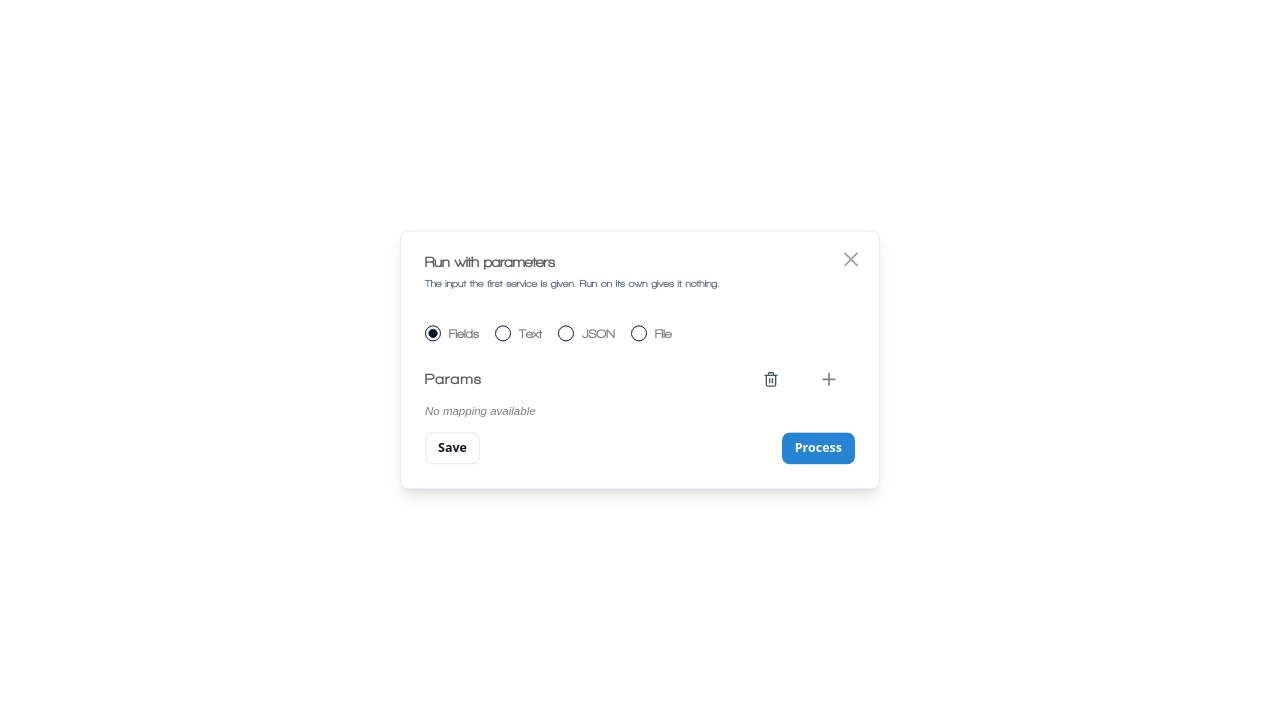
Test: RunParamsDialog › saved payloads › forgets the last one, and the menu with it
Click the button "Save" at (452, 449), box [425,433,480,465]
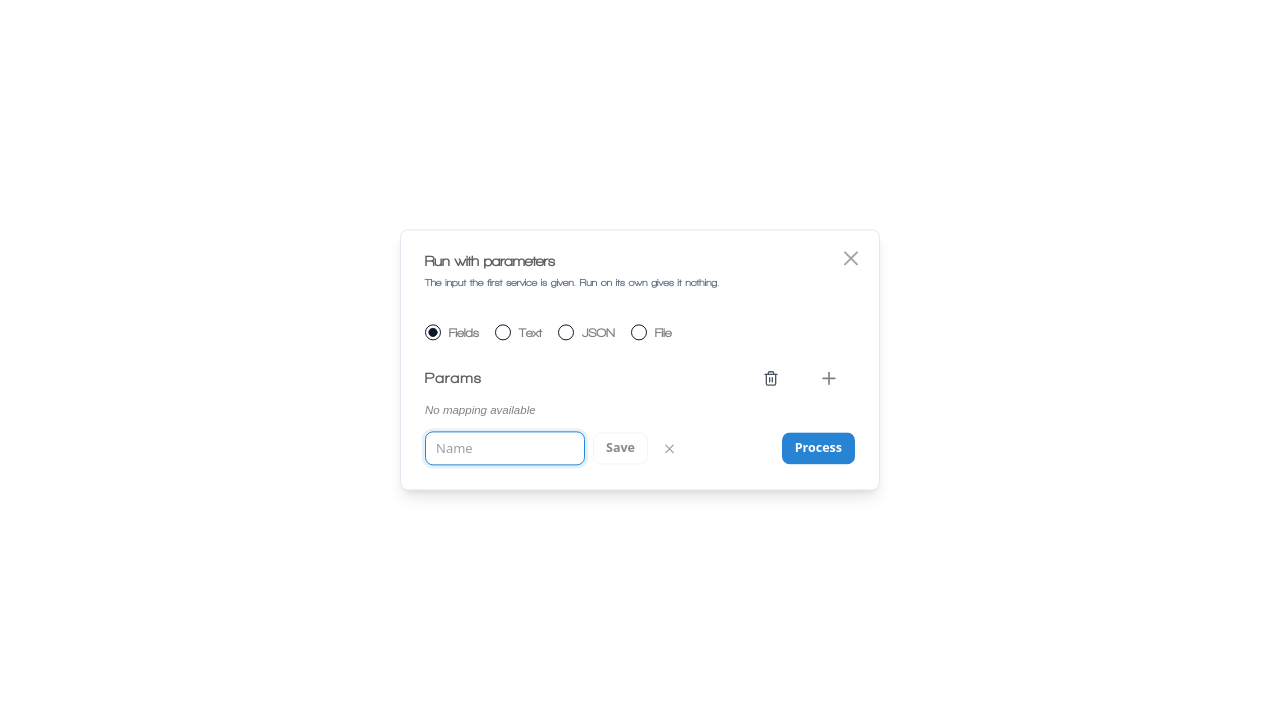
Type "empty" into the field named "Payload name" at (505, 449), box [425,432,585,466]
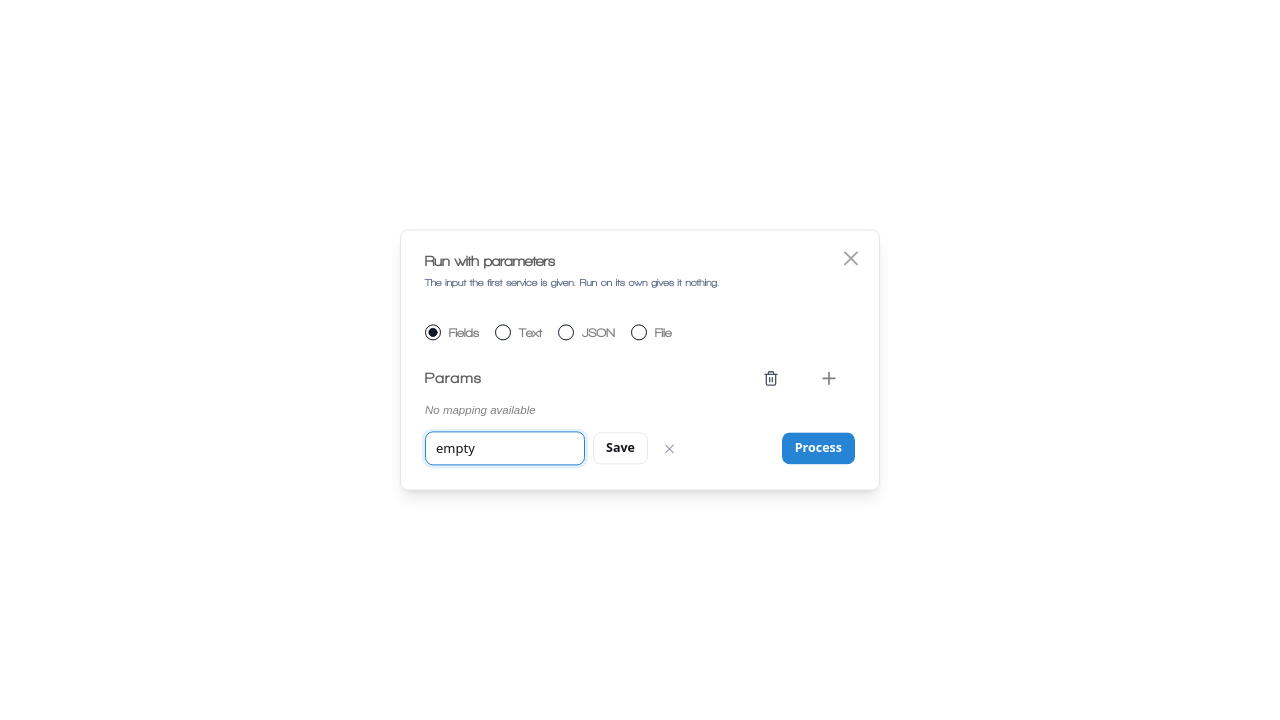
Click the button "Save" at (620, 449), box [593,433,648,465]
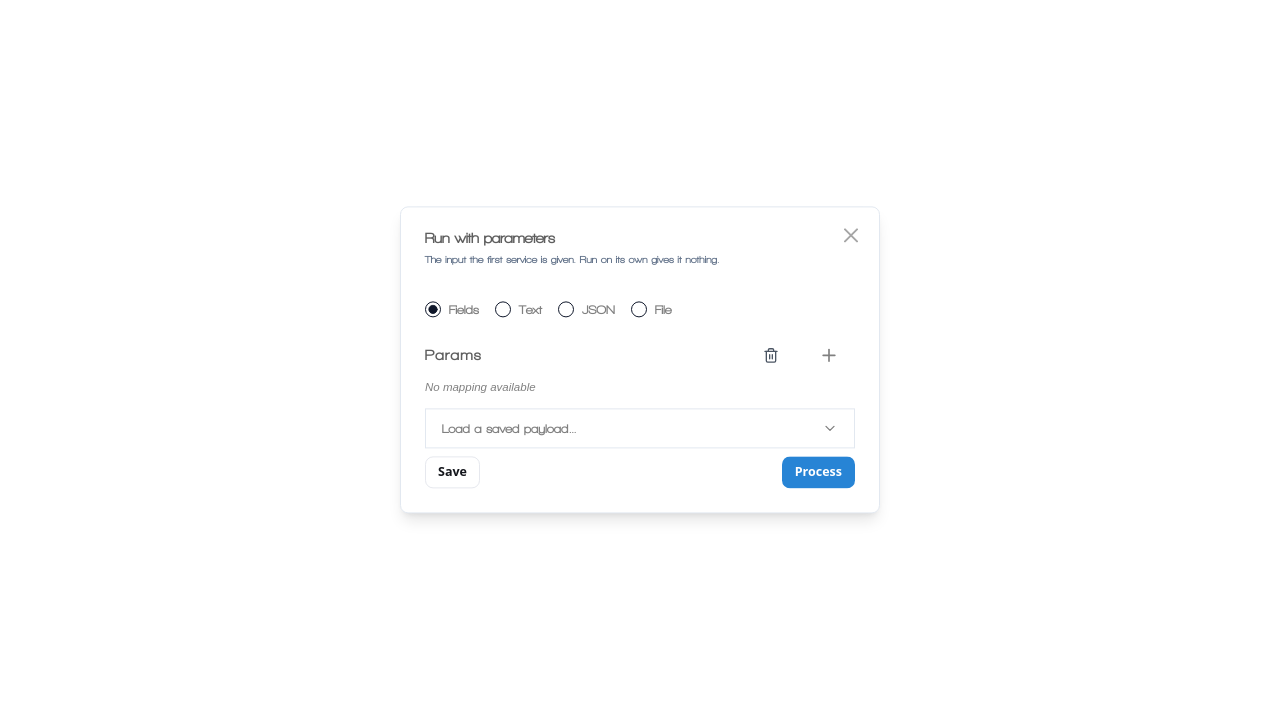
Press Enter in the button "Load a saved payload…", box [425,409,855,449]
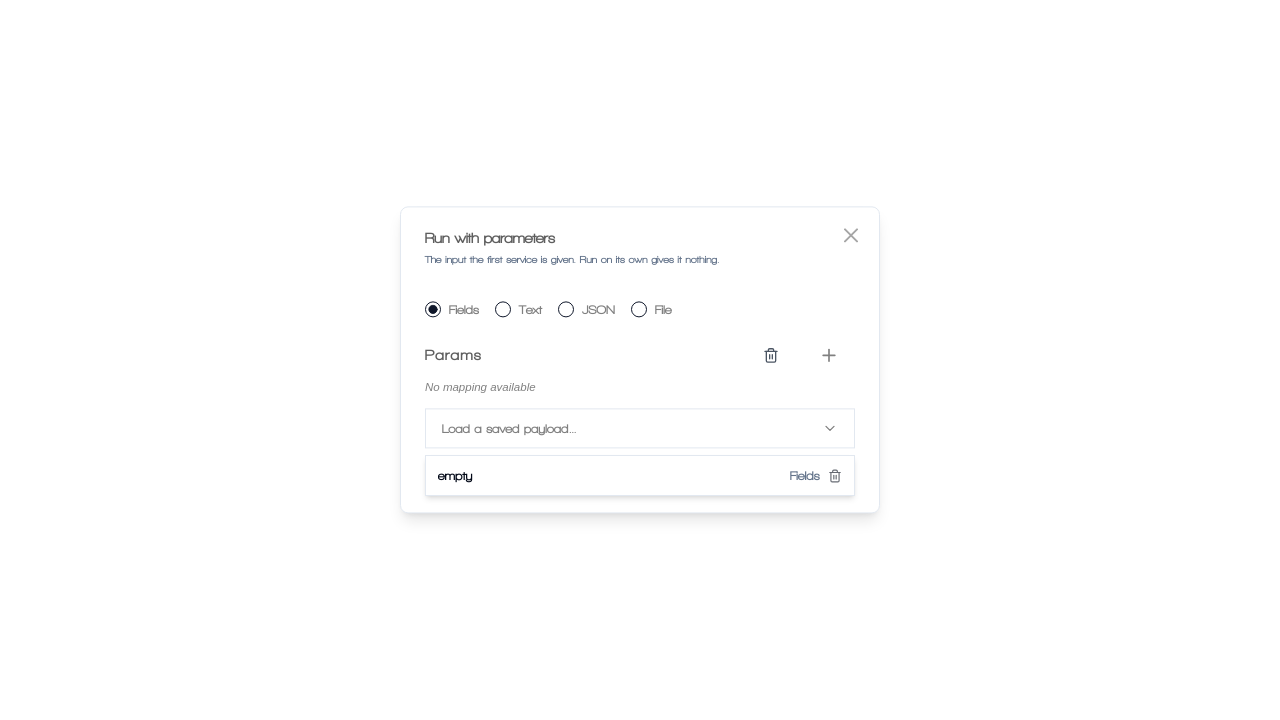
Click the button named "Forget empty" at (835, 476), box [828,469,842,483]
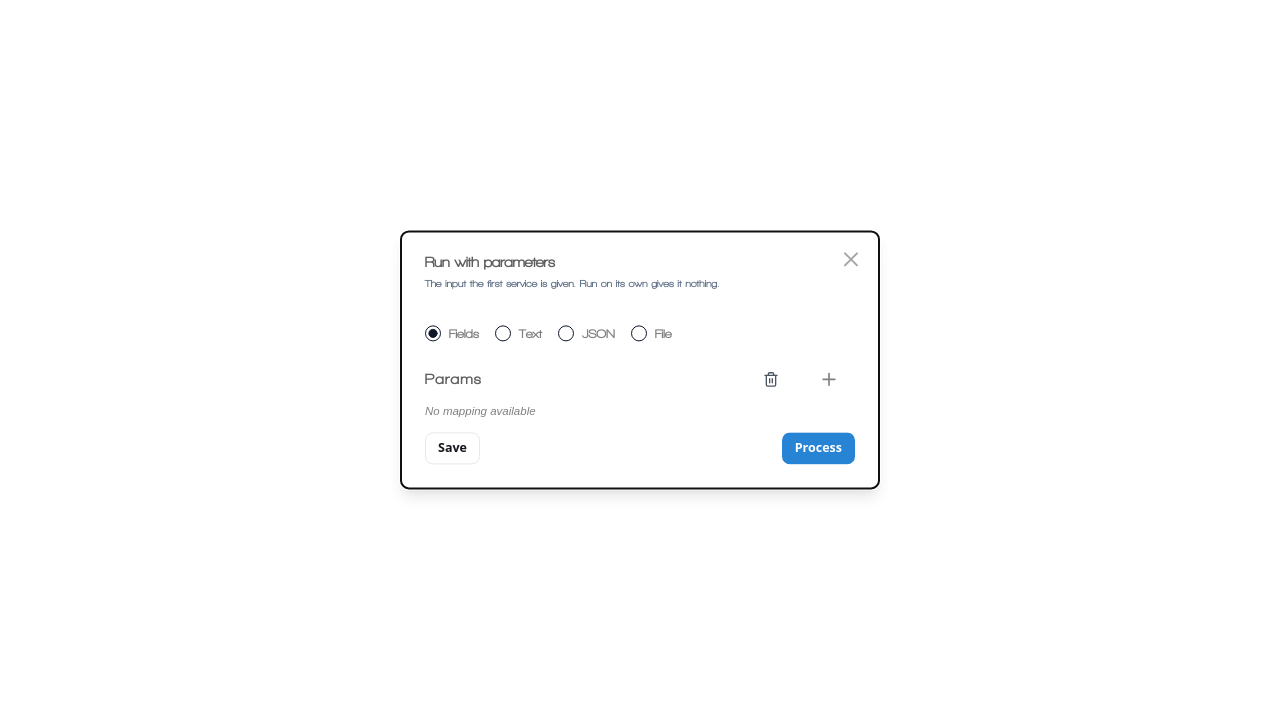
Expected: the button "Load a saved payload…" is gone
